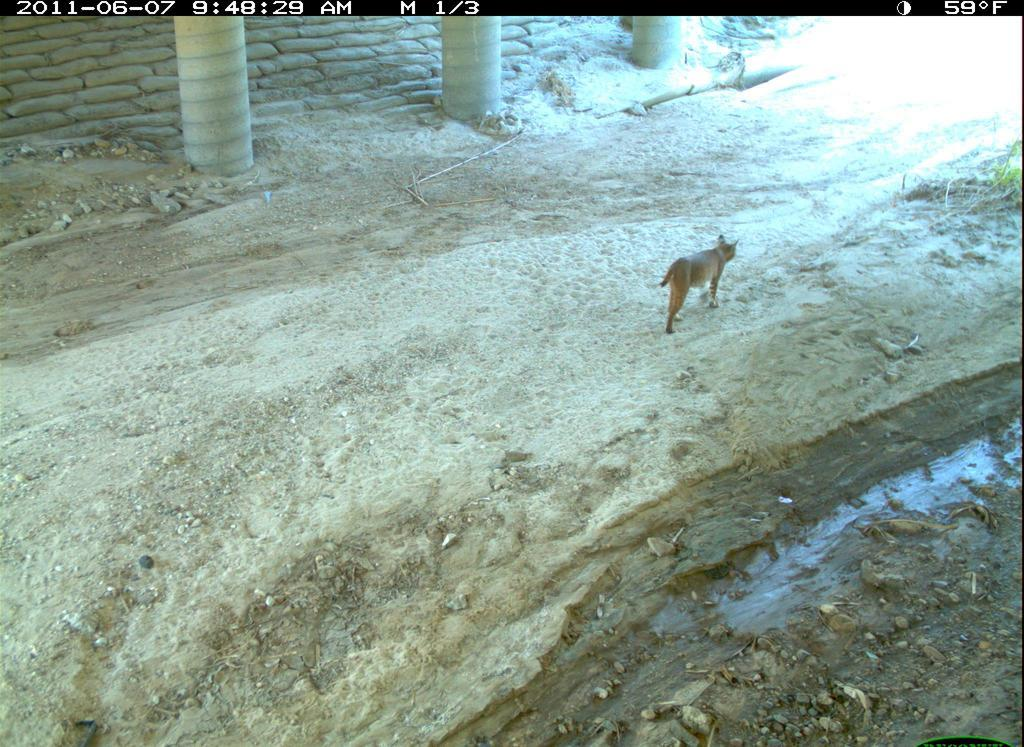bobcat: (657, 227, 747, 338)
